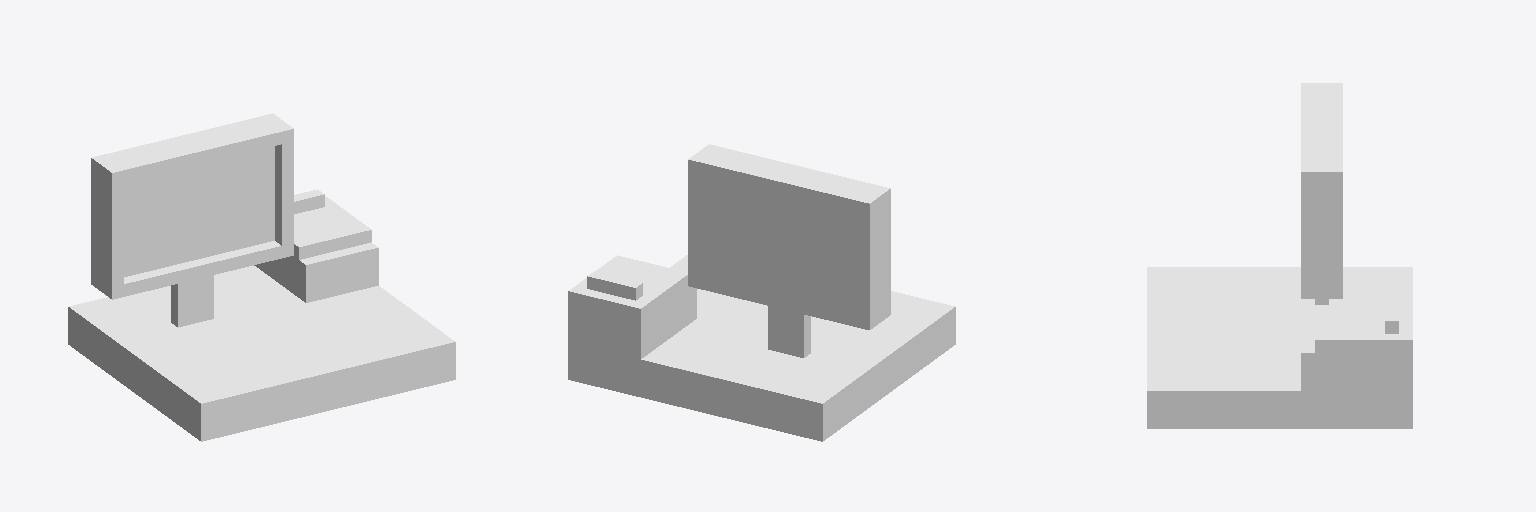
The model's file is Kasse.obj.
3 views of the same model, side by side, from view 1: azimuth 30°, elevation 25°; view 2: azimuth 150°, elevation 25°; view 3: azimuth 270°, elevation 25° (orthographic).
Parts seen in each view (by area): view 1: object 1; view 2: object 1; view 3: object 1.
Boxes of the visible parts, x1,y1,x2,y2 form: object 1: [68, 113, 455, 441]; object 1: [568, 144, 955, 441]; object 1: [1147, 83, 1412, 428].
Bounding box in the file's own units: 2.2 × 1.7 × 1.9.